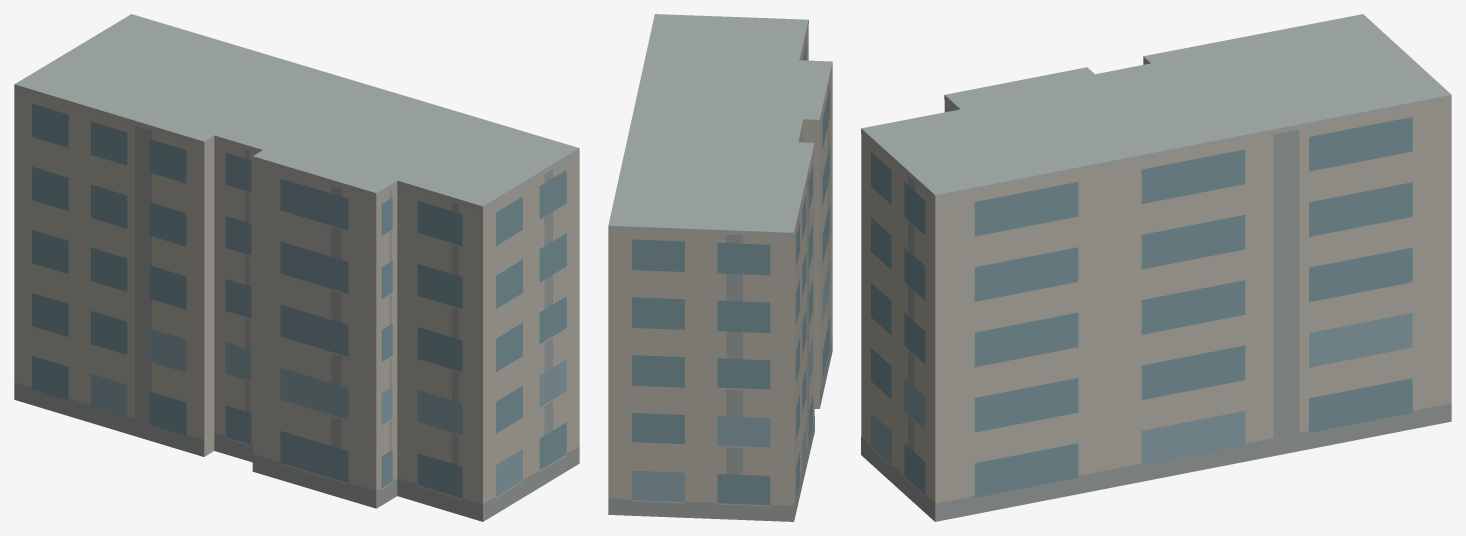
Rendered from survey-upis-32673132.glb.
The picture shows the model from 3 angles, left to right: view 1: azimuth 30°, elevation 25°; view 2: azimuth 150°, elevation 25°; view 3: azimuth 270°, elevation 25°; orthographic projection. The views are drawn at different scales.
Parts seen in each view (by area): view 1: survey-upis-32673132.tmp; view 2: survey-upis-32673132.tmp; view 3: survey-upis-32673132.tmp.
Boxes of the visible parts, <box> form: survey-upis-32673132.tmp: <box>14,14,579,521</box>; survey-upis-32673132.tmp: <box>608,14,832,521</box>; survey-upis-32673132.tmp: <box>861,14,1451,521</box>.
Bounding box in the file's own units: 18.14 × 15.25 × 24.99.
